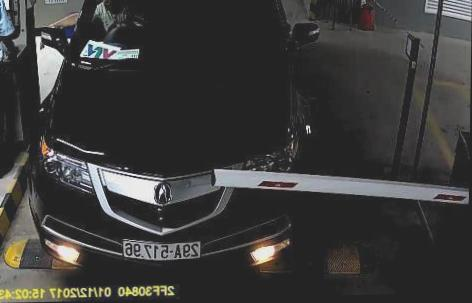License_Plate: (121, 234, 206, 261)
